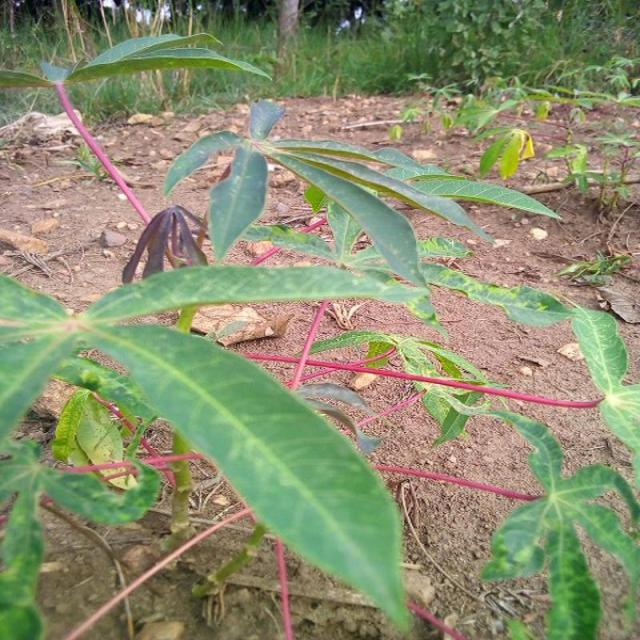cassava leaf: (78, 318, 413, 632)
